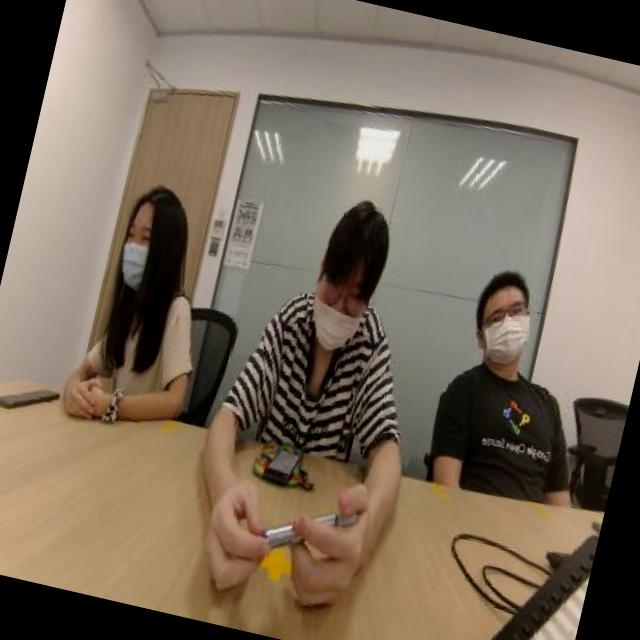Person: (202, 175, 454, 472), (408, 210, 640, 521), (62, 138, 246, 440)
